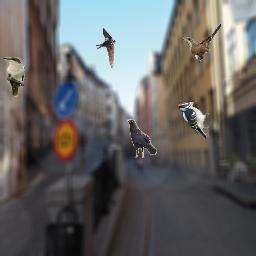Crow: (127, 119, 157, 158)
Cuckoo: (183, 23, 221, 63), (3, 57, 25, 97)
Swallow: (96, 28, 116, 68)
Woodpecker: (177, 100, 209, 140)
